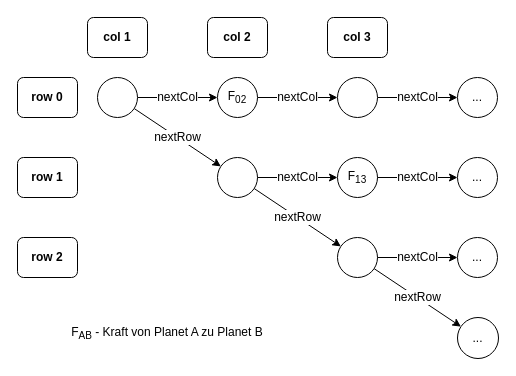
Some shapes in this 516 by 376 pixel diagram are drawn without their labels. The centre of each missing label's shape, as x and y in pixels:
F 01: the point at 117,97
F 03: the point at 357,97
F 12: the point at 237,177
F 23: the point at 357,257
